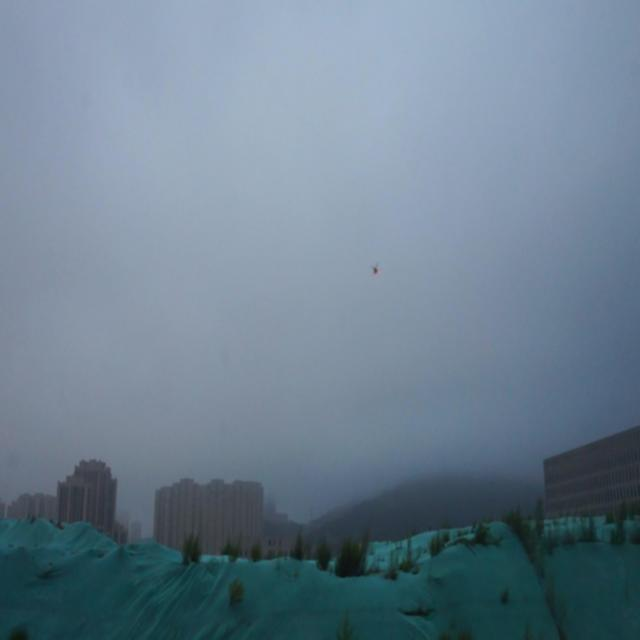UAV: (372, 264, 381, 275)
